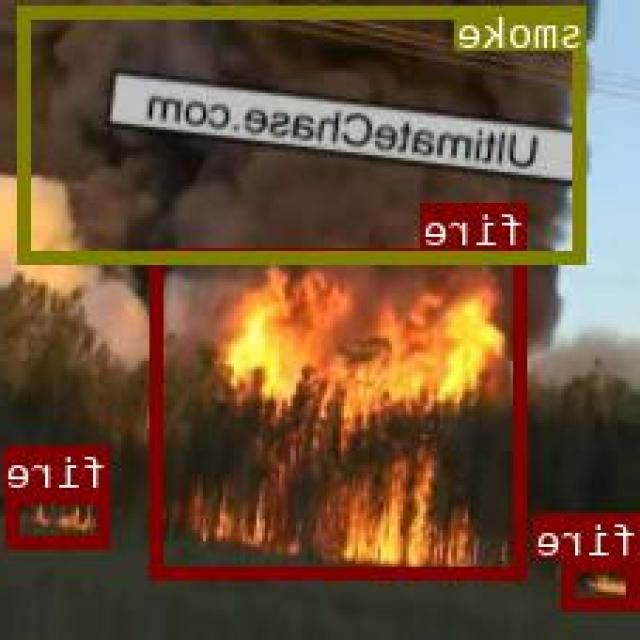fire: (153, 246, 529, 576), (9, 489, 113, 547), (567, 556, 640, 607)
smoke: (21, 3, 588, 260)
